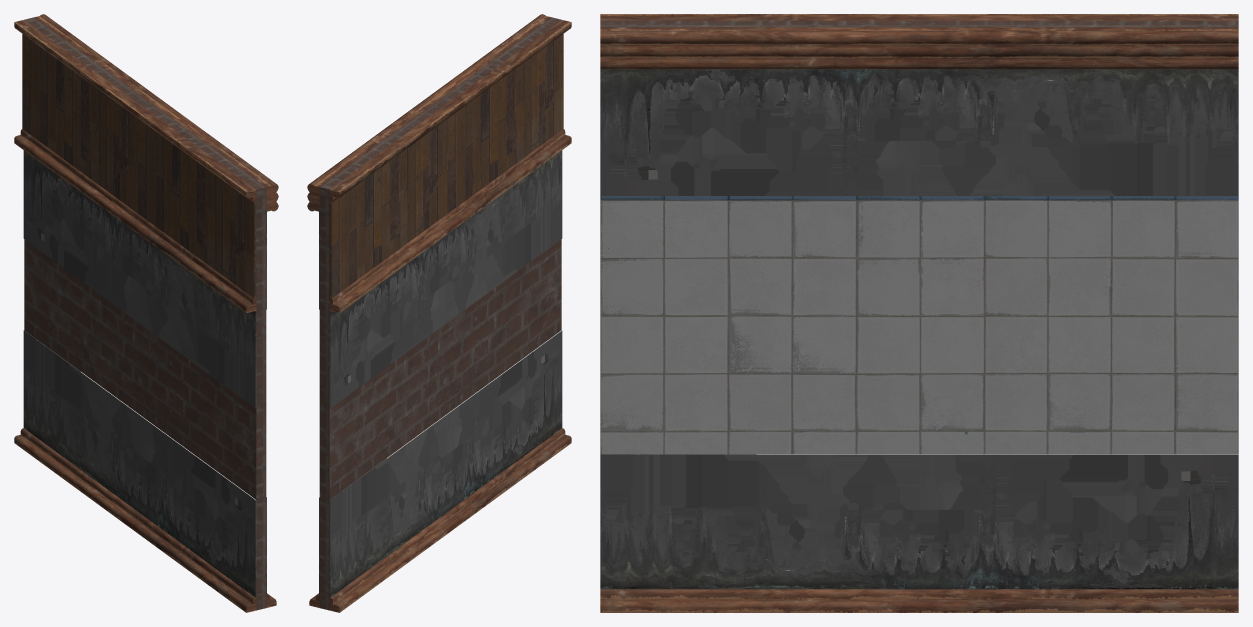
File: Kit_BricksOldWoodWindowBottom_x2.fbx
3 views of the same model, side by side, from view 1: azimuth 30°, elevation 25°; view 2: azimuth 150°, elevation 25°; view 3: azimuth 270°, elevation 25° (orthographic). The views are drawn at different scales.
Visible parts, largest first — view 1: Kit_BricksOldWoodWindowBottom_x2; view 2: Kit_BricksOldWoodWindowBottom_x2; view 3: Kit_BricksOldWoodWindowBottom_x2.
Boxes of the visible parts, <box> form: Kit_BricksOldWoodWindowBottom_x2: <box>14,14,278,612</box>; Kit_BricksOldWoodWindowBottom_x2: <box>307,14,571,612</box>; Kit_BricksOldWoodWindowBottom_x2: <box>600,14,1238,612</box>.
Size of the model in its own units: 12.68 by 158 by 157.
